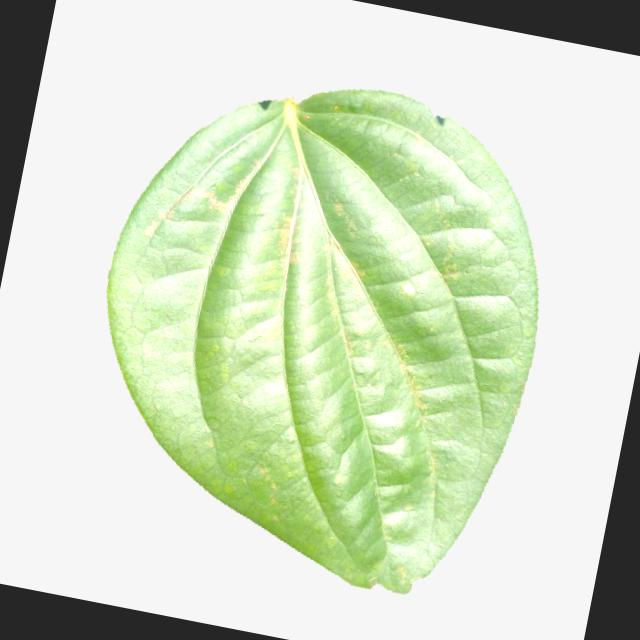healthy: (55, 43, 586, 622)
